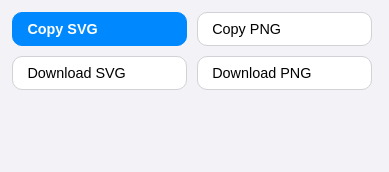
Test case: CopyDownloadActions › copies raw SVG markup to the clipboard
Click the button "Copy SVG" at point(100, 29), box [12,12,187,46]
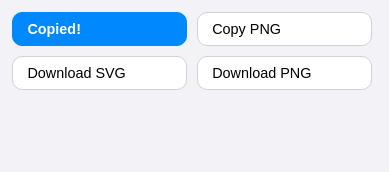
Result: the button "Copied!" is shown at [12,12,187,46]
